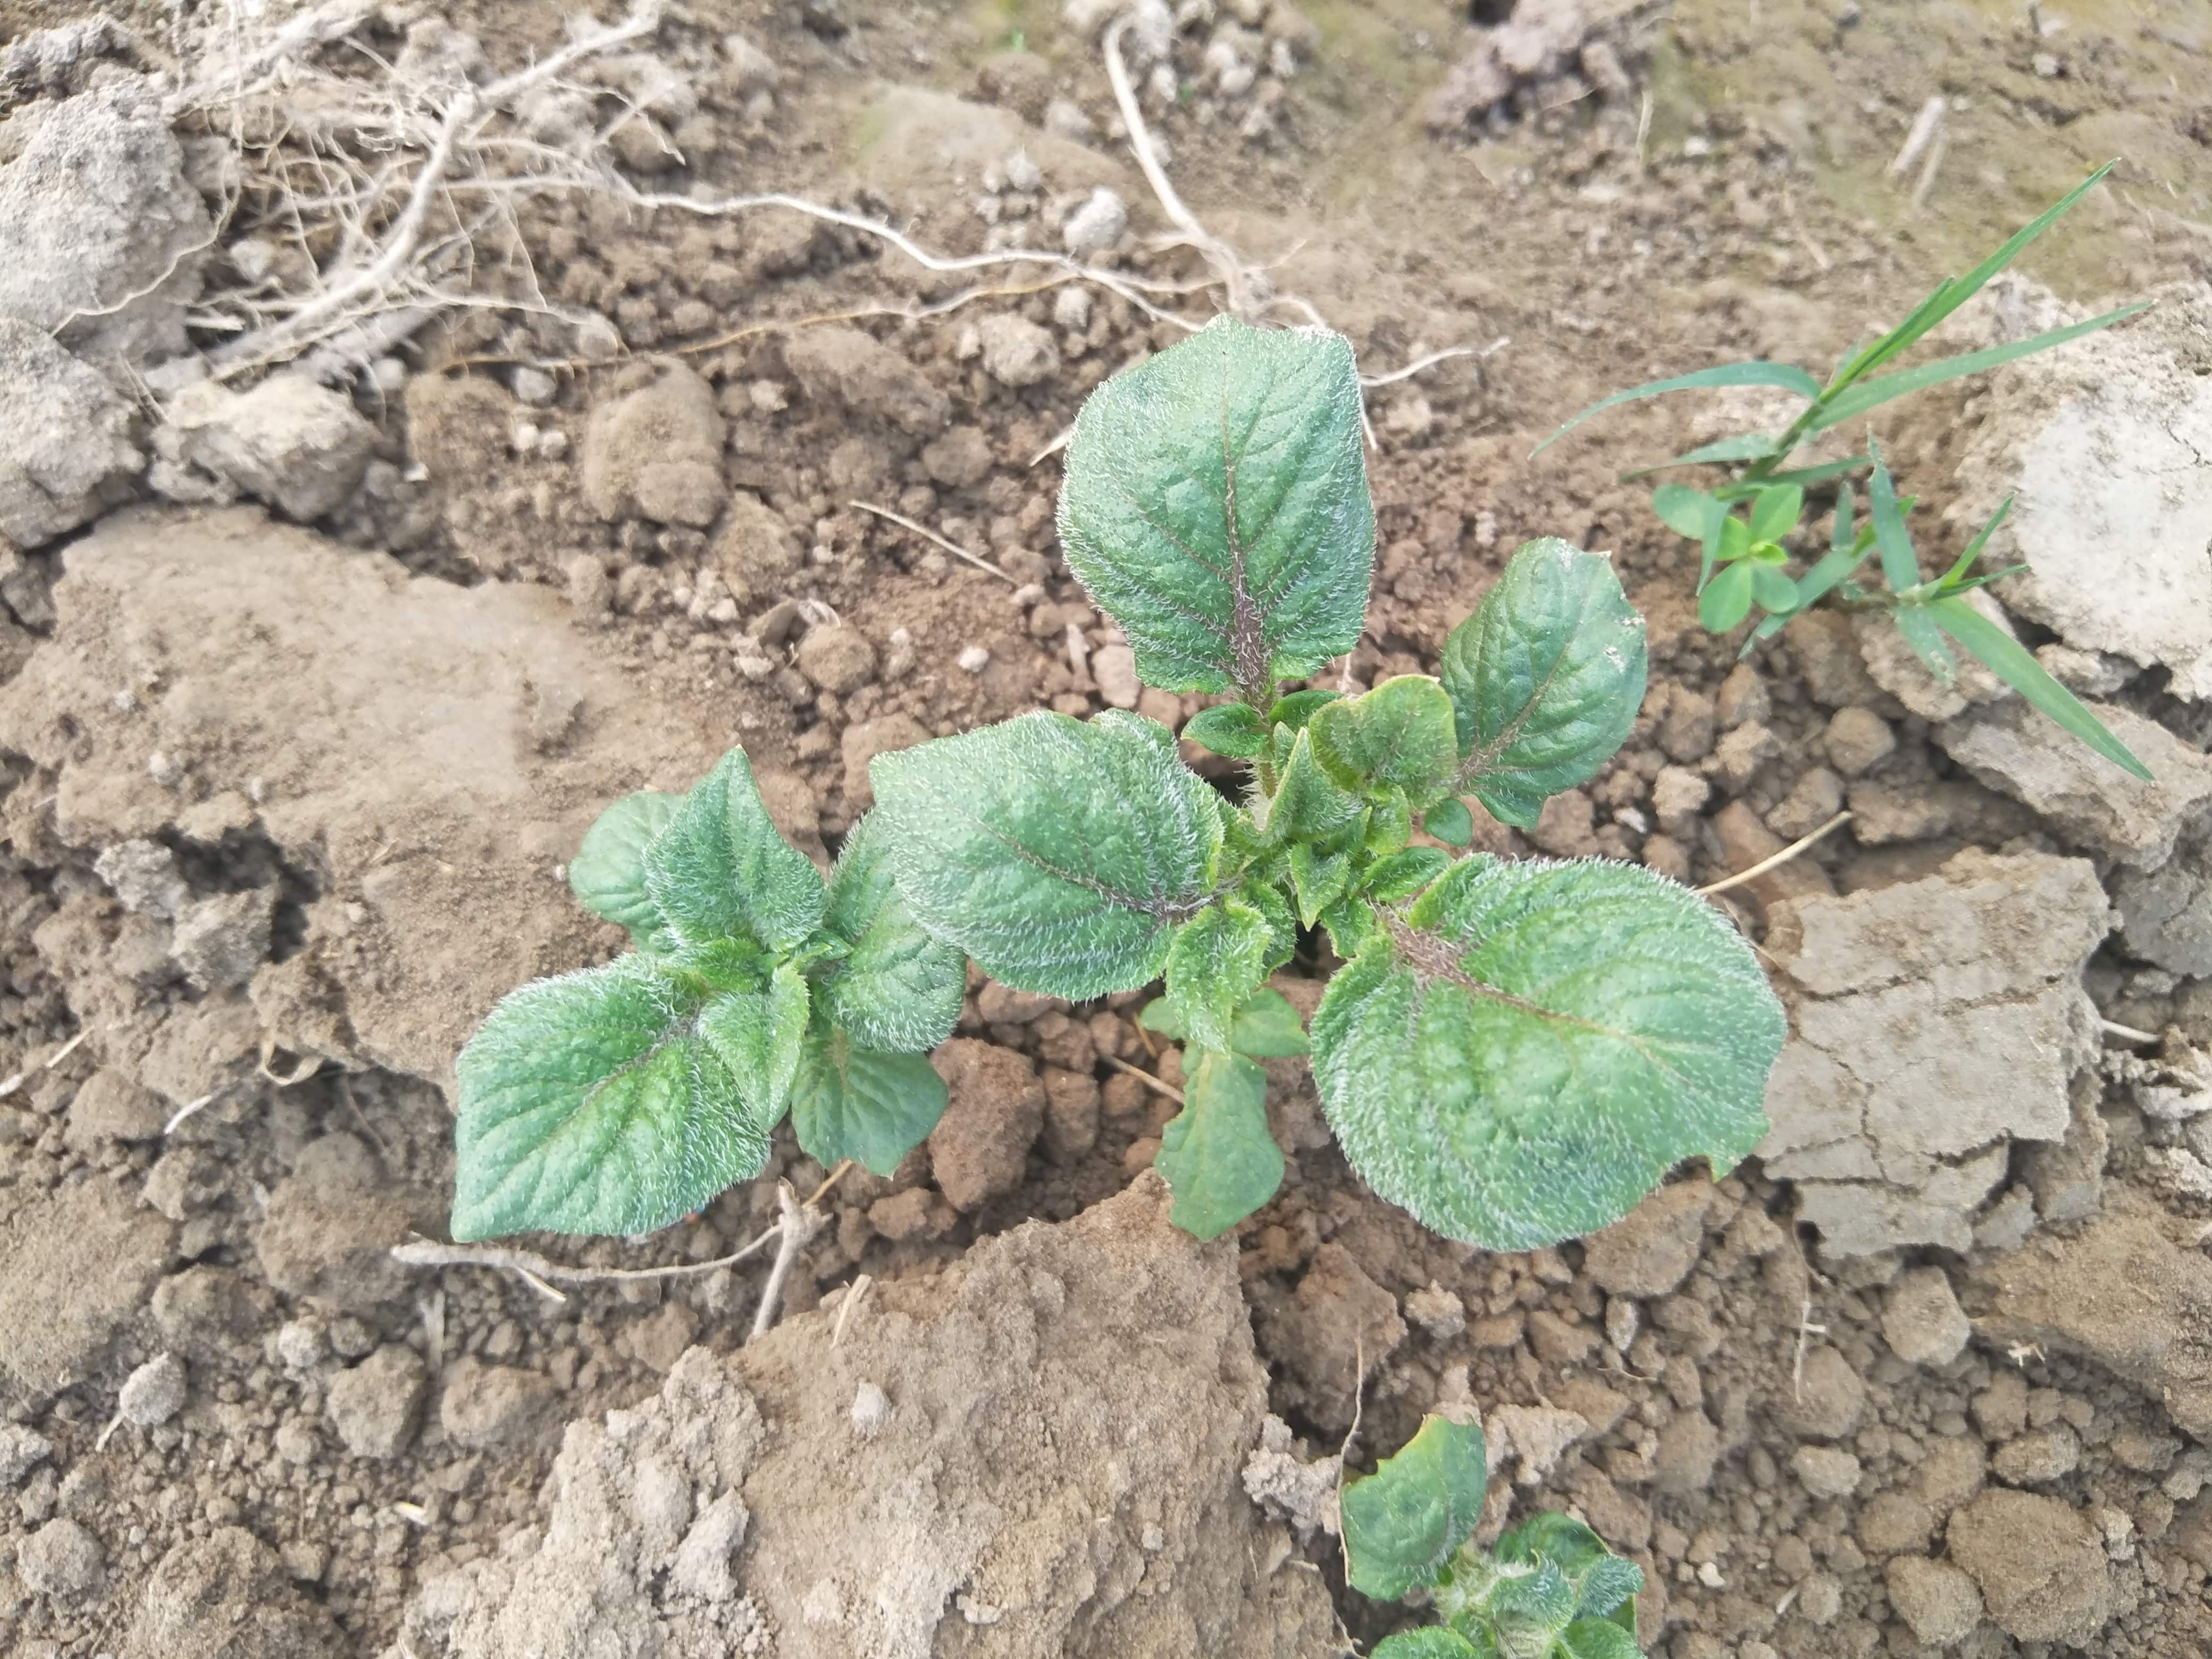daun: (1338, 877, 1740, 1197), (1066, 317, 1357, 674), (448, 951, 766, 1249), (878, 741, 1188, 955), (1426, 552, 1634, 807), (815, 796, 970, 1051), (653, 734, 808, 951), (1268, 671, 1437, 852), (782, 1039, 951, 1176), (1172, 1040, 1278, 1223), (1169, 892, 1278, 1028), (561, 781, 646, 941), (1179, 708, 1308, 763)
